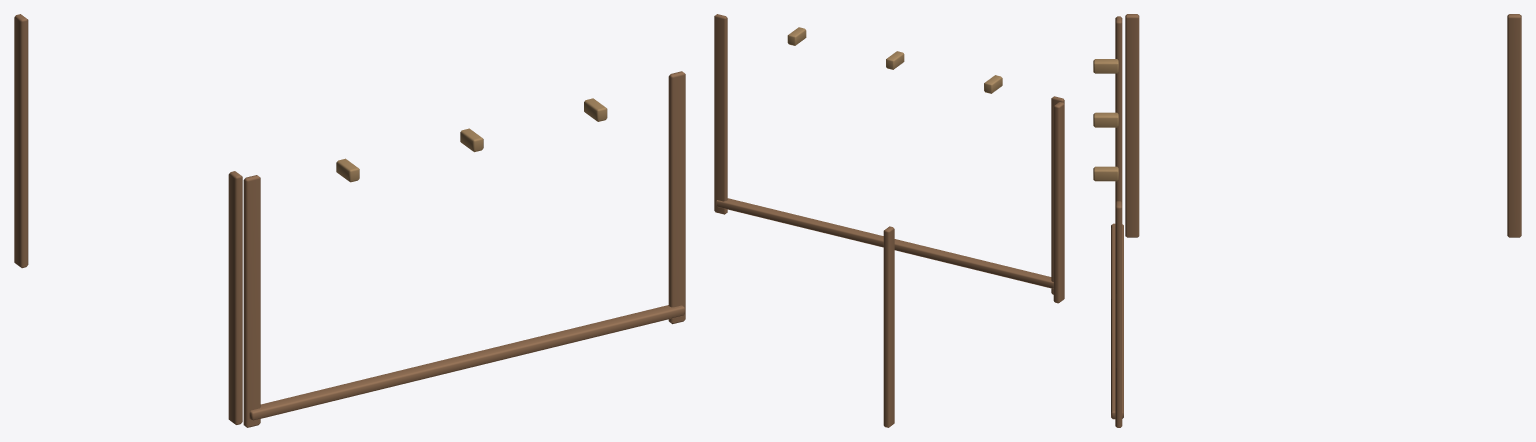
Rendered from acabado-rural.glb.
The picture shows the model from 3 angles, left to right: view 1: azimuth 30°, elevation 25°; view 2: azimuth 150°, elevation 25°; view 3: azimuth 270°, elevation 25°; orthographic projection. The views are drawn at different scales.
Parts seen in each view (by area): view 1: Cedro, Roble aceitado; view 2: Cedro, Roble aceitado; view 3: Cedro, Roble aceitado.
Boxes of the visible parts, x1,y1,x2,y2 form: Cedro: (14, 14, 685, 427); Roble aceitado: (336, 98, 607, 182); Cedro: (714, 14, 1064, 427); Roble aceitado: (787, 27, 1002, 93); Cedro: (1111, 14, 1521, 427); Roble aceitado: (1093, 59, 1118, 181).
Size of the model in its own units: 6.48 by 3.46 by 6.05.
